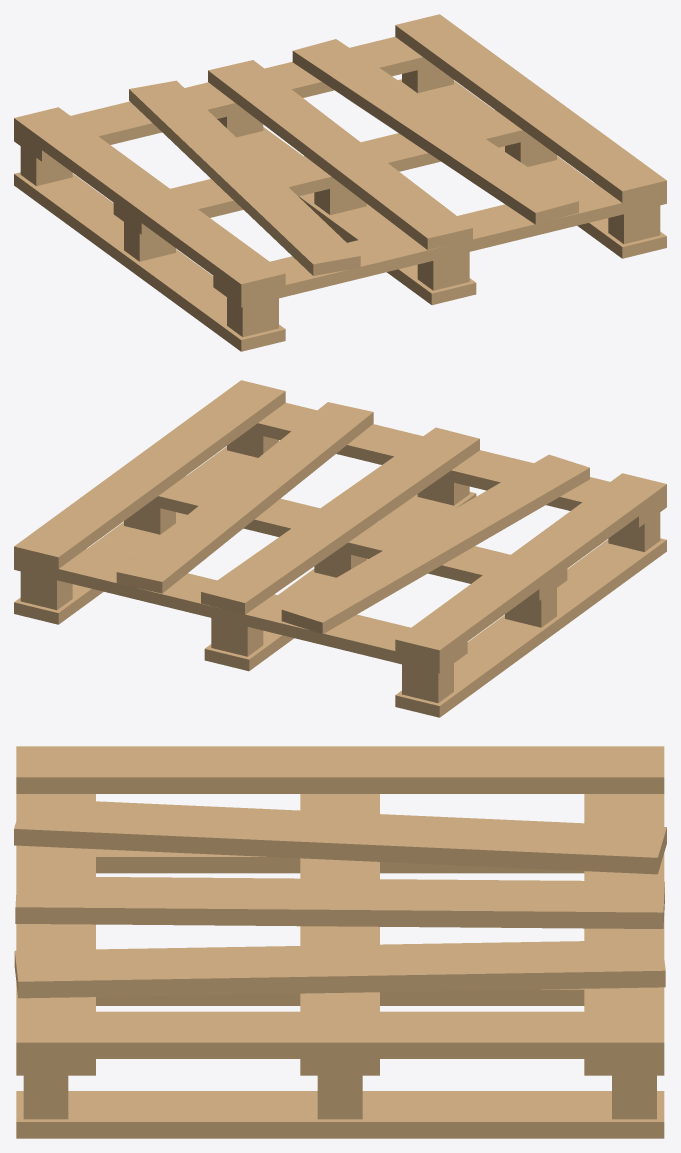
The model's file is Prop_Junk_Pallet_Wooden_03.FBX.
3 views of the same model, one above another, from view 1: azimuth 30°, elevation 25°; view 2: azimuth 150°, elevation 25°; view 3: azimuth 270°, elevation 25° (orthographic). The views are drawn at different scales.
Visible parts, largest first — view 1: Prop_Junk_Pallet_Wooden_03; view 2: Prop_Junk_Pallet_Wooden_03; view 3: Prop_Junk_Pallet_Wooden_03.
Boxes of the visible parts, left/top/right/bottom form: Prop_Junk_Pallet_Wooden_03: left=14, top=14, right=666, bottom=351; Prop_Junk_Pallet_Wooden_03: left=14, top=380, right=666, bottom=717; Prop_Junk_Pallet_Wooden_03: left=14, top=746, right=666, bottom=1138.
Bounding box in the file's own units: 1469 × 222 × 1368.
